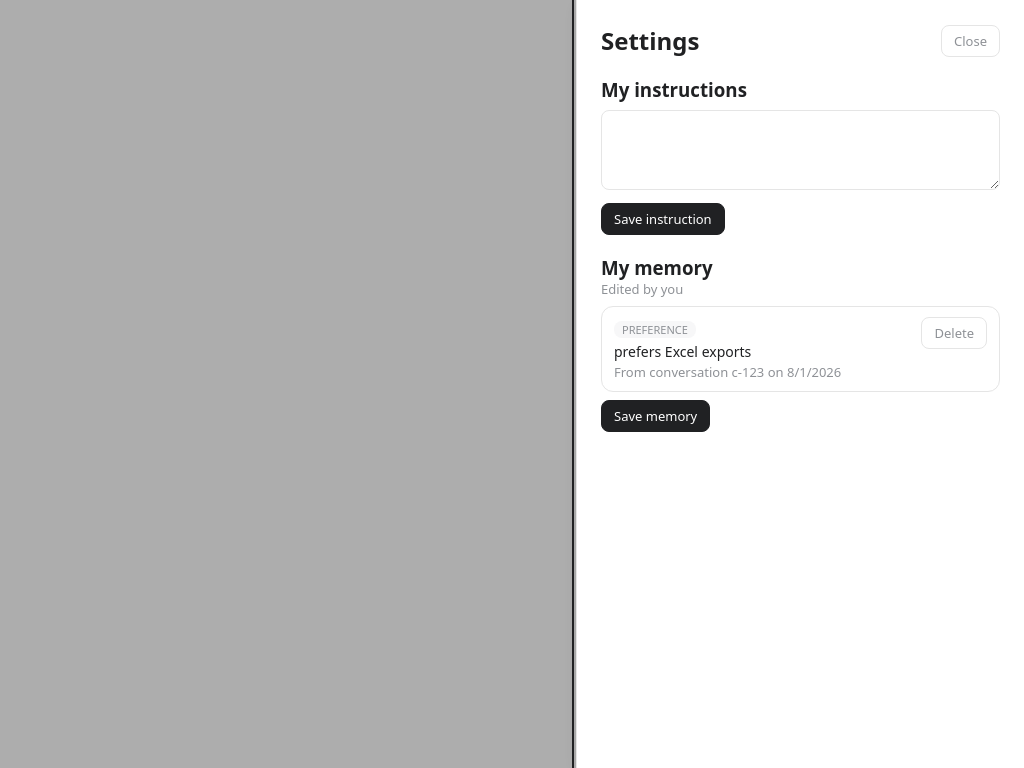
Test: deleting an entry enables the Save memory button
This screenshot has width=1024, height=768.
Click the button with aria-label "delete entry: prefers excel exports".
click(954, 333)  # box [922,317,987,349]
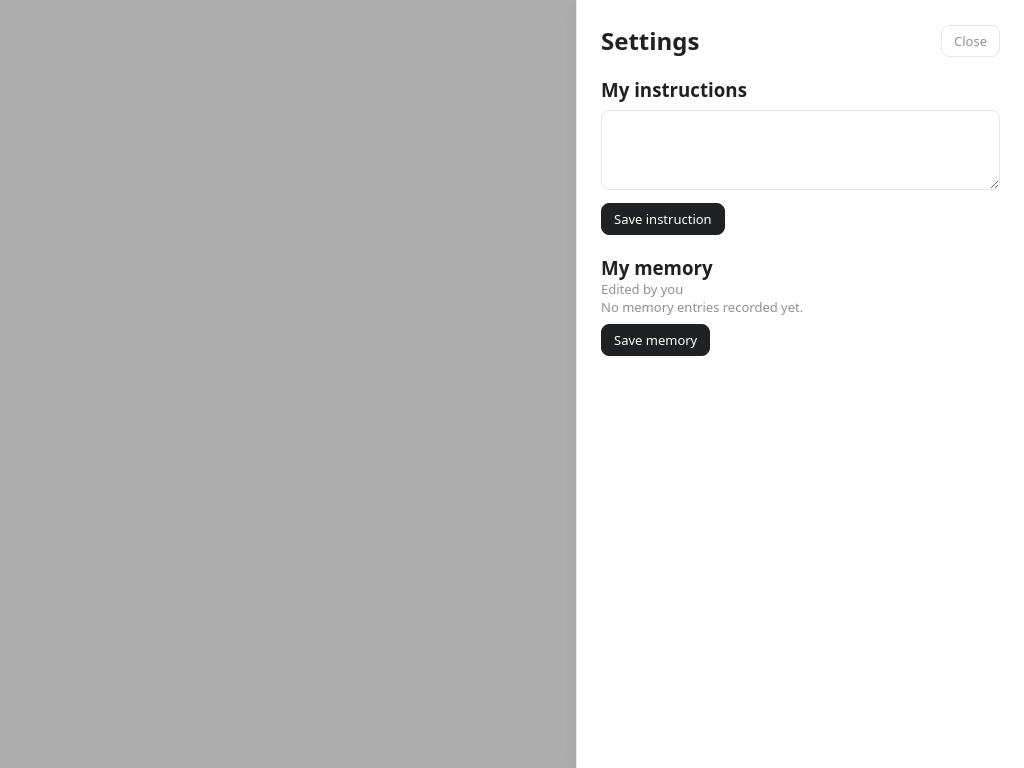
Check: the button "Save memory" is enabled, box [601,324,710,356]
